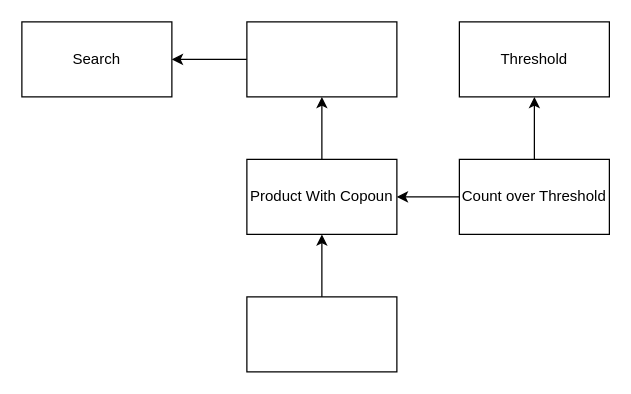
The diagram is 631 pixels wide and 394 high, and some of its shapes have lost their labels. Here are the shapes that lost their labels. From the top down, the centre of each, then its label:
pixel 321 59: Product
pixel 321 334: Min/Max
